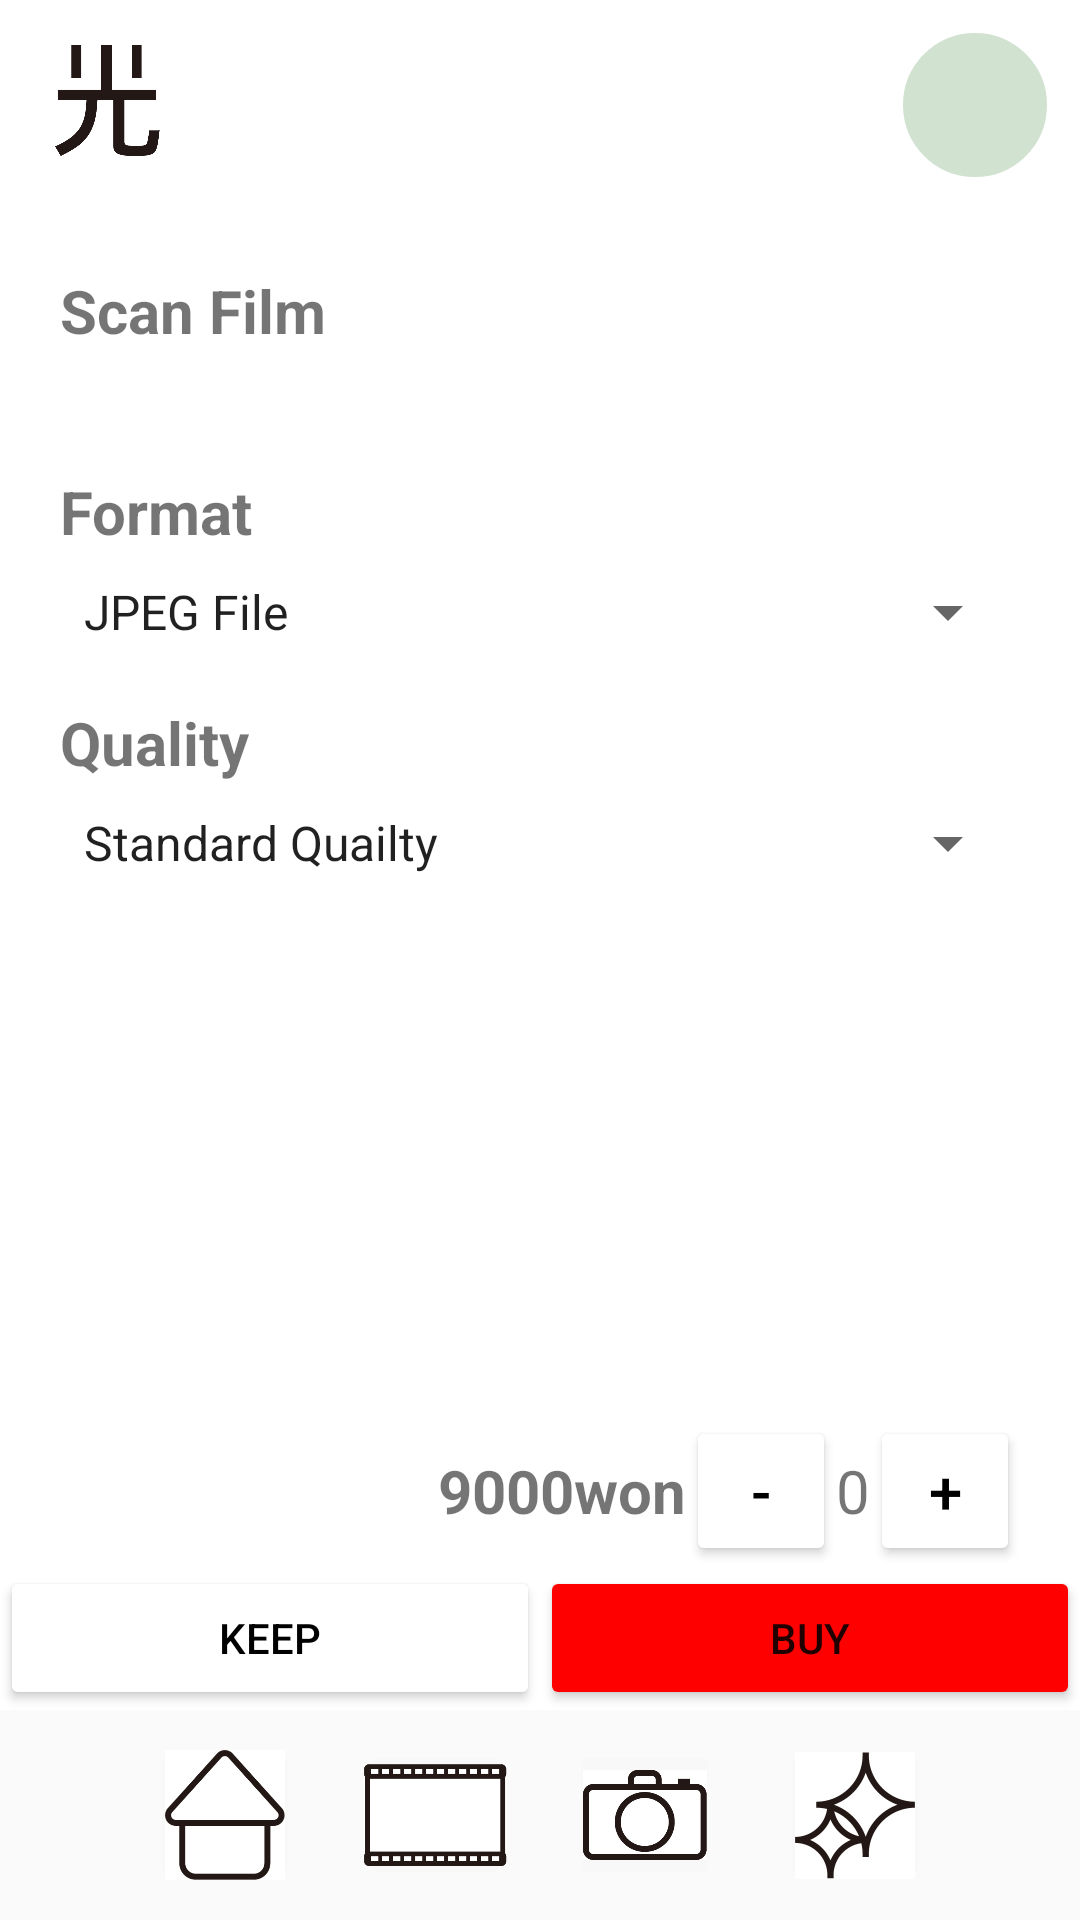

Icon click points for this 1080 x 1920 phone screenshot, format (x=x, y=y):
camera: (x=645, y=1815)
film: (x=435, y=1815)
home: (x=225, y=1815)
